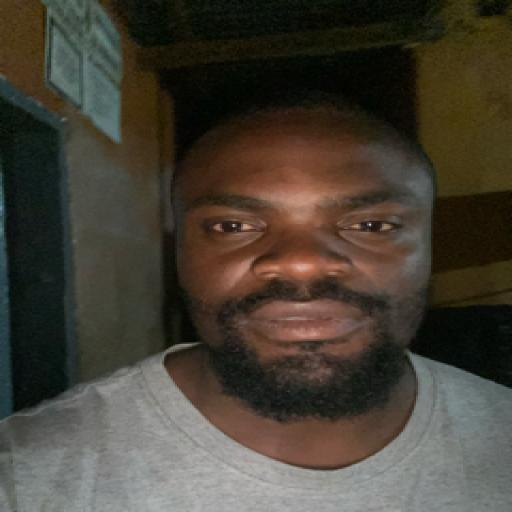JEANLUC: (156, 76, 422, 416)
